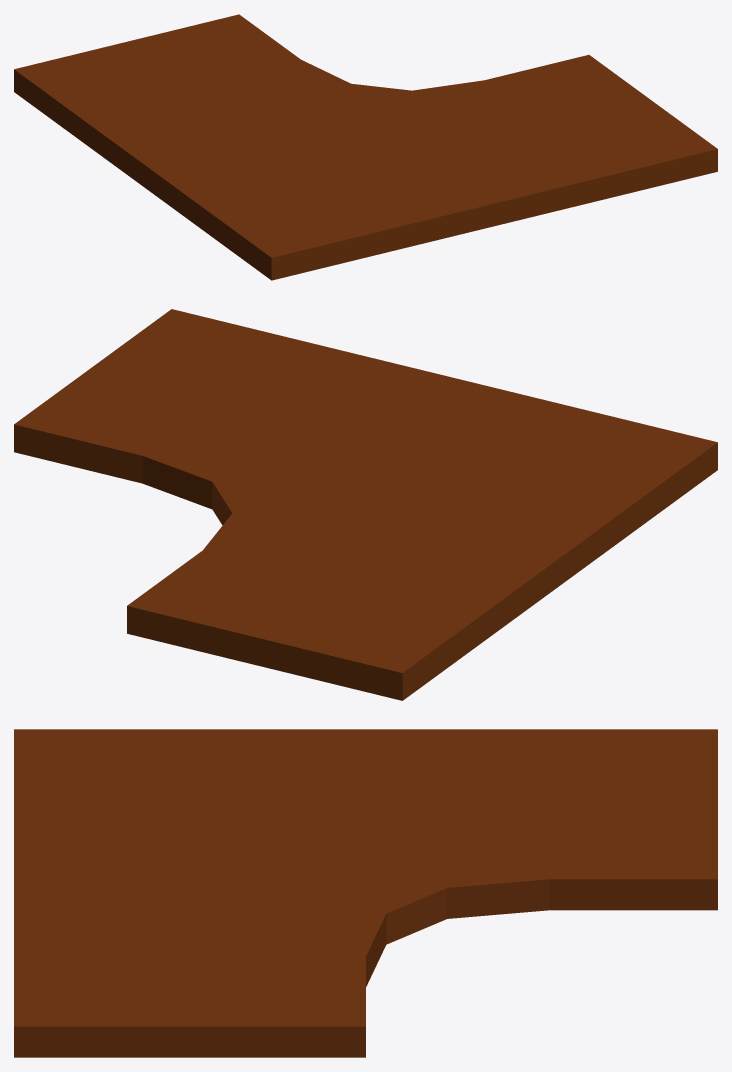
Rendered from Cubical_Desktop_Corner.FBX.
The picture shows the model from 3 angles, top to bottom: view 1: azimuth 30°, elevation 25°; view 2: azimuth 150°, elevation 25°; view 3: azimuth 270°, elevation 25°; orthographic projection. The views are drawn at different scales.
Visible parts, largest first — view 1: Cubical_Desktop_Corner_001; view 2: Cubical_Desktop_Corner_001; view 3: Cubical_Desktop_Corner_001.
Boxes of the visible parts, x1,y1,x2,y2 form: Cubical_Desktop_Corner_001: (14,14,717,280); Cubical_Desktop_Corner_001: (14,309,717,700); Cubical_Desktop_Corner_001: (14,729,717,1057).
Size of the model in its own units: 1 by 0.0486 by 1.
